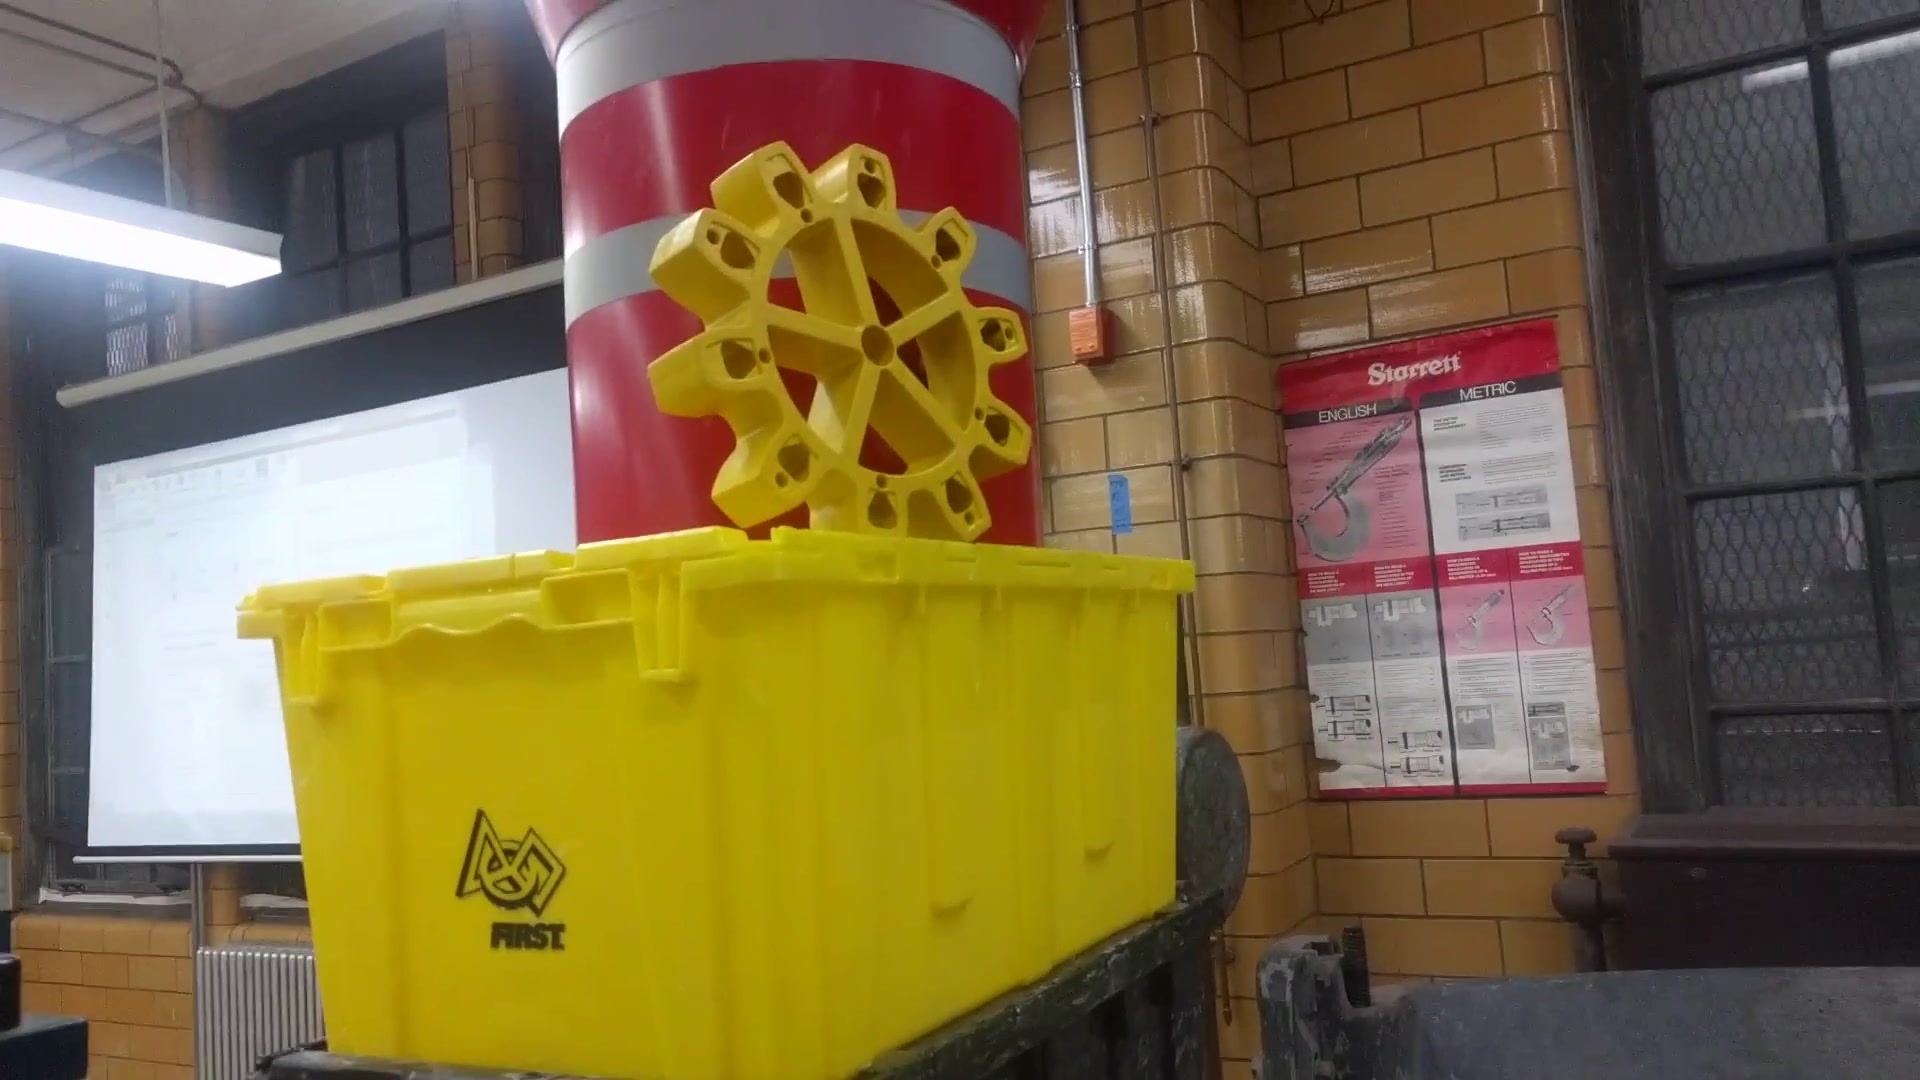gear: (662, 123, 1047, 550)
